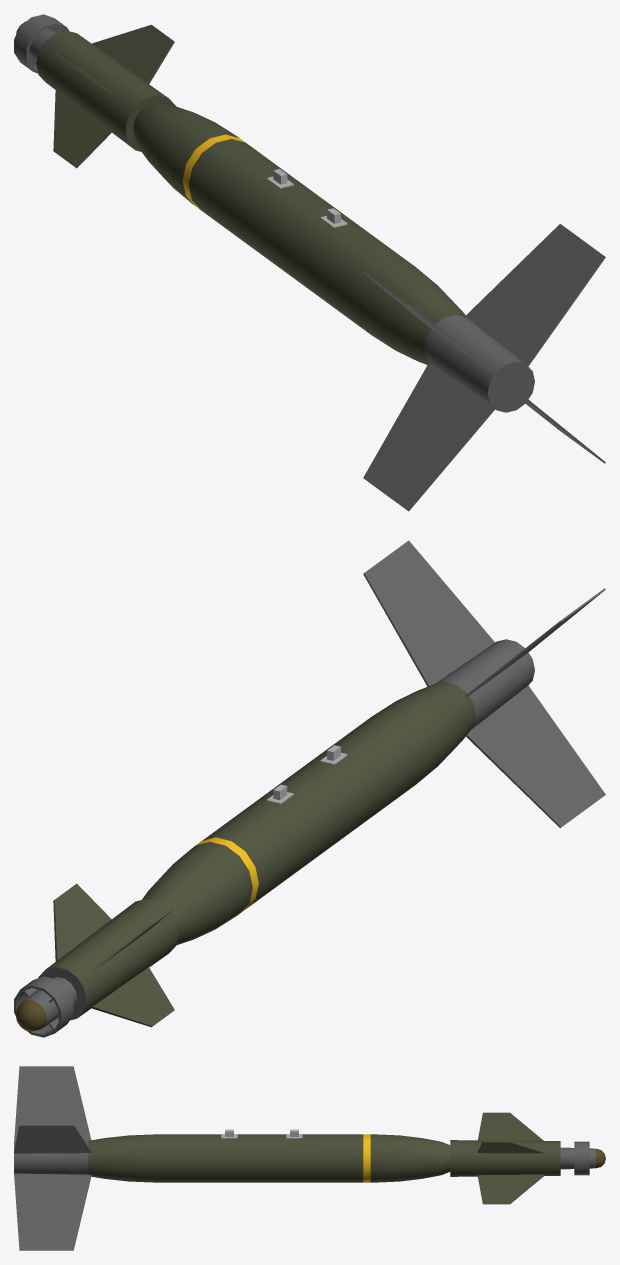
Rendered from gbu12.glb.
3 renders of one model, top to bottom at view 1: azimuth 30°, elevation 25°; view 2: azimuth 150°, elevation 25°; view 3: azimuth 270°, elevation 25°, orthographic. The views are drawn at different scales.
Parts seen in each view (by area): view 1: gbu12; view 2: gbu12; view 3: gbu12.
Part boxes in pixels (left/top/right/bottom): gbu12: left=14, top=14, right=605, bottom=511; gbu12: left=14, top=540, right=605, bottom=1037; gbu12: left=14, top=1066, right=605, bottom=1250.
Size of the model in its own units: 0.7679 by 0.7679 by 3.27.
